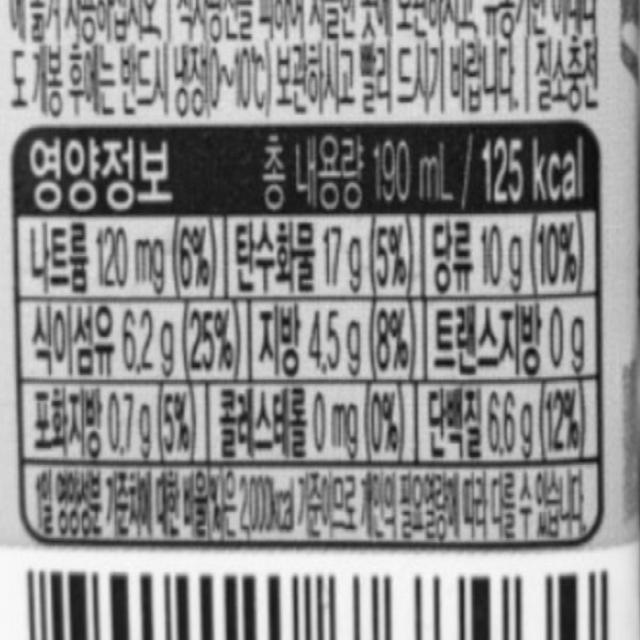Nutrition Label: (0, 116, 624, 562)
